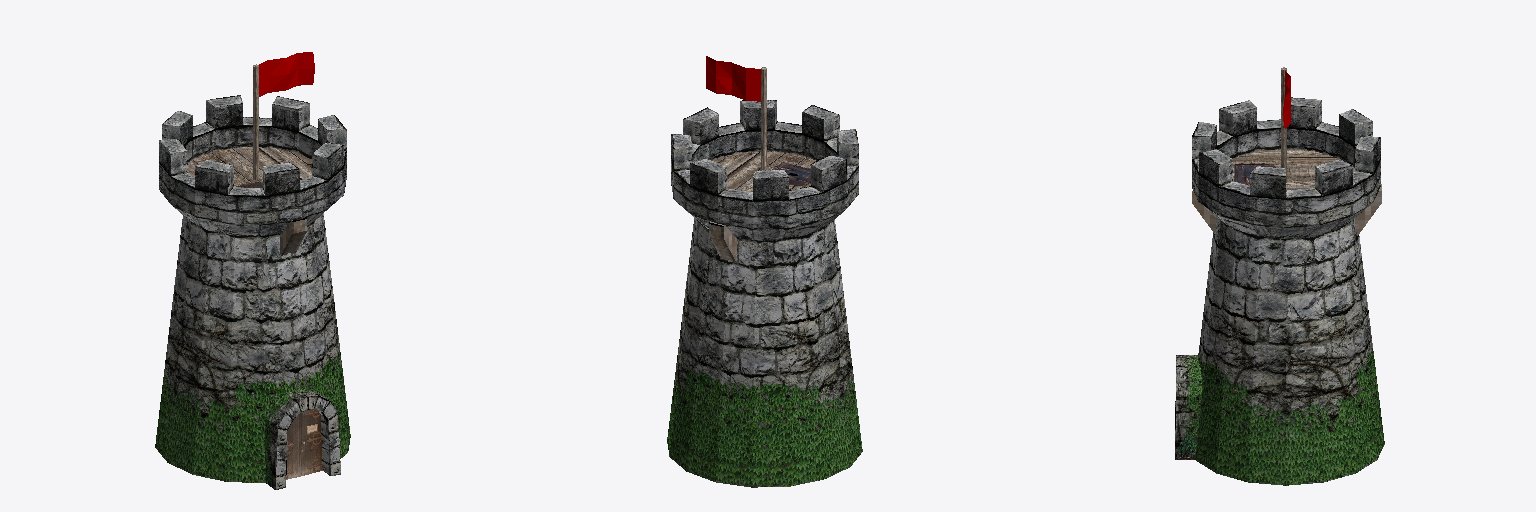
The picture shows the model from 3 angles: view 1: azimuth 30°, elevation 25°; view 2: azimuth 150°, elevation 25°; view 3: azimuth 270°, elevation 25°; orthographic projection.
Parts seen in each view (by area): view 1: Object01, Object05, Object02, Object03, Cylinder01, Object04, Plane01, Object07, Cylinder02; view 2: Object01, Object05, Object03, Object04, Plane01, Cylinder02; view 3: Object01, Object05, Object07, Object03, Object04, Cylinder04.
Part boxes in pixels (x1,y1,x2,y2): Object01: (155,103,350,482); Object05: (160,95,346,195); Object02: (276,396,340,489); Object03: (188,147,311,187); Cylinder01: (286,409,322,479); Object04: (162,101,346,194); Plane01: (259,52,314,96); Object07: (265,387,329,489); Cylinder02: (253,64,258,179); Object01: (667,108,862,487); Object05: (671,100,858,200); Object03: (714,151,815,191); Object04: (674,101,858,194); Plane01: (706,56,760,101); Cylinder02: (761,67,766,169); Object01: (1192,106,1384,485); Object05: (1192,97,1379,198); Object07: (1175,355,1201,459); Object03: (1233,149,1354,189); Object04: (1192,101,1372,194); Cylinder04: (1192,184,1381,235).
Bounding box in the file's own units: 85.63 × 180 × 90.94.
Materials: 1 (1 with a texture image).